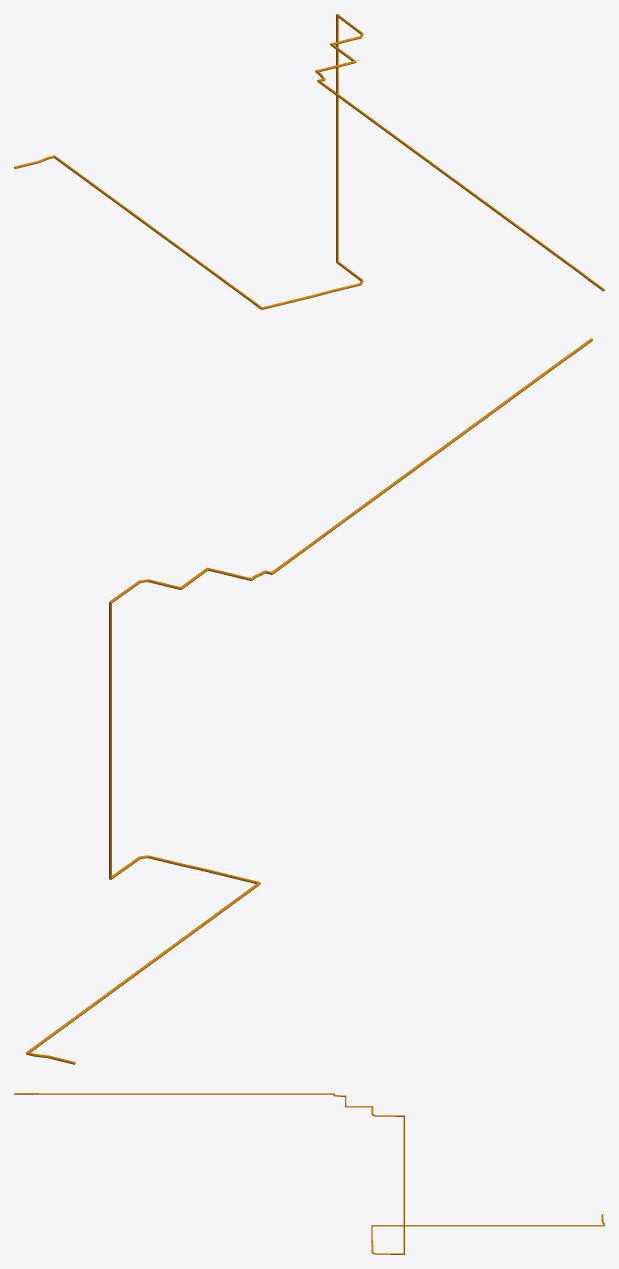
3 renders of one model, top to bottom at view 1: azimuth 30°, elevation 25°; view 2: azimuth 150°, elevation 25°; view 3: azimuth 270°, elevation 25°, orthographic. The views are drawn at different scales.
Bounding box in the file's own units: 1248 × 2020 × 7761.
